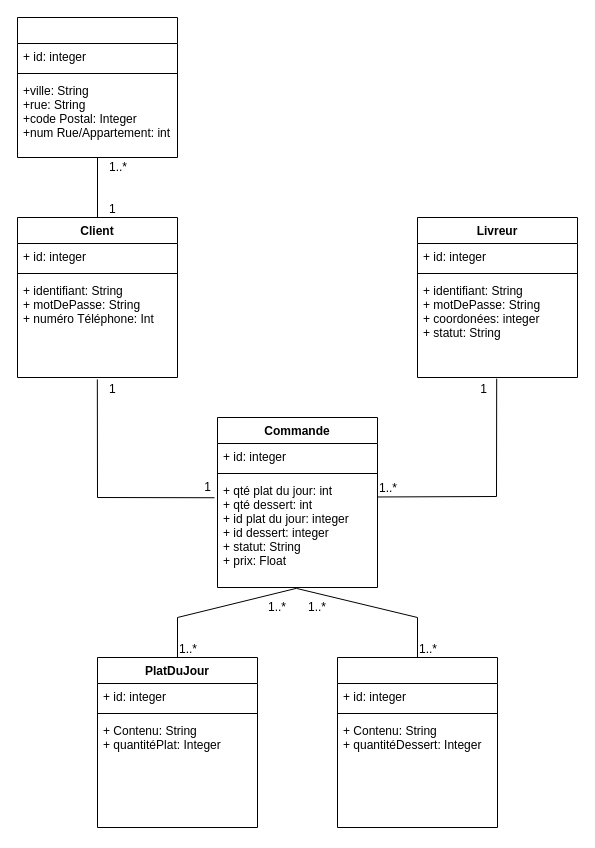
Image size: 595x848. Some labels were removed from this diagram. The box of each missing label's shape, as (x1, y1, x2, y2) in pixels:
Adresse Client: (16, 16, 178, 158)
DessertDuJour: (336, 656, 498, 828)
